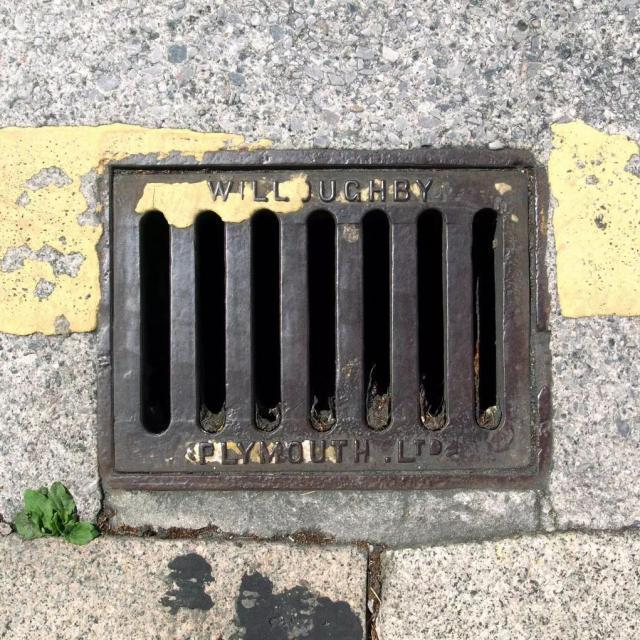manhole: (102, 150, 550, 489)
